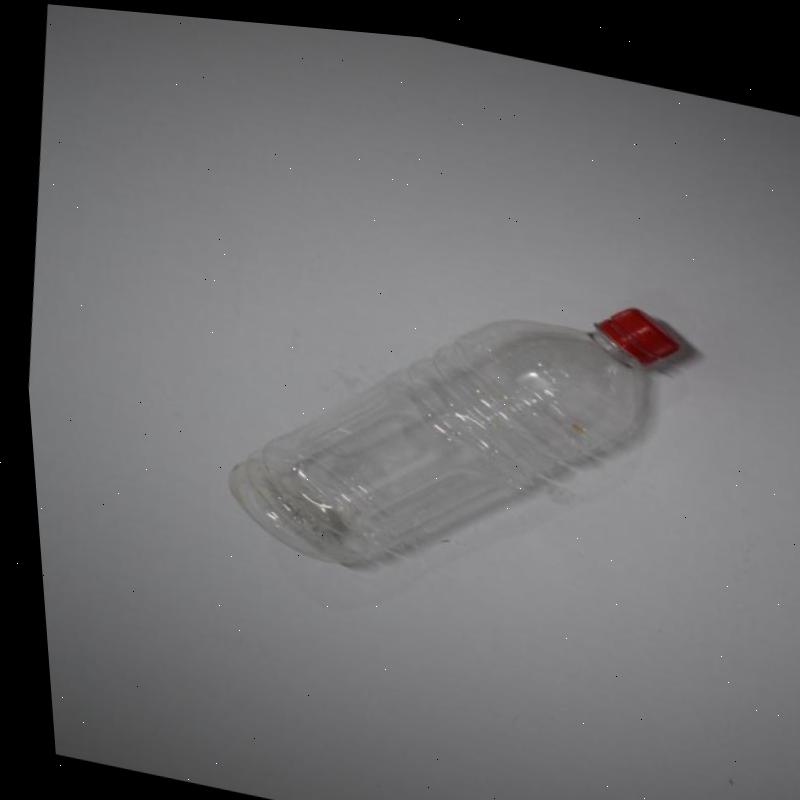botella: (200, 218, 696, 626)
